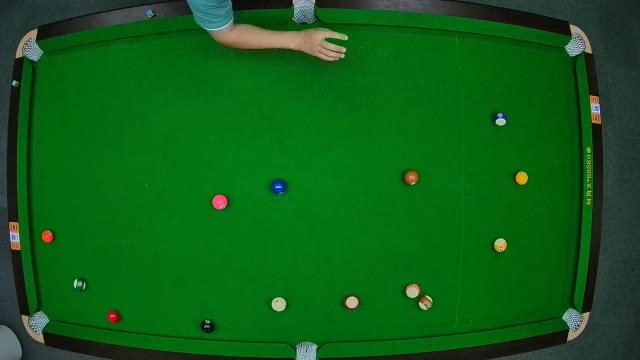bag1: (22, 40, 40, 60)
bag2: (292, 1, 316, 23)
bag3: (568, 34, 586, 57)
bag4: (27, 310, 48, 332)
bag5: (294, 340, 318, 360)
bag6: (562, 310, 582, 332)
ball0: (272, 298, 286, 312)
ball1: (516, 170, 528, 186)
ball10: (493, 112, 507, 126)
ball11: (346, 294, 360, 310)
ball12: (405, 283, 421, 299)
ball14: (74, 278, 86, 290)
ball15: (418, 294, 434, 310)
ball2: (272, 179, 286, 195)
ball3: (108, 309, 120, 323)
ball4: (212, 194, 228, 210)
ball5: (42, 229, 54, 243)
ball7: (404, 170, 420, 186)
ball8: (200, 318, 214, 334)
ball9: (494, 238, 508, 253)
